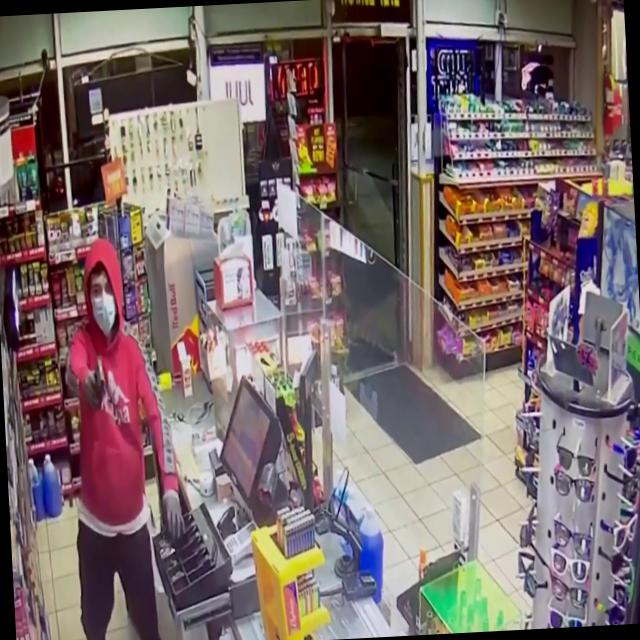handgun: (84, 346, 118, 410)
